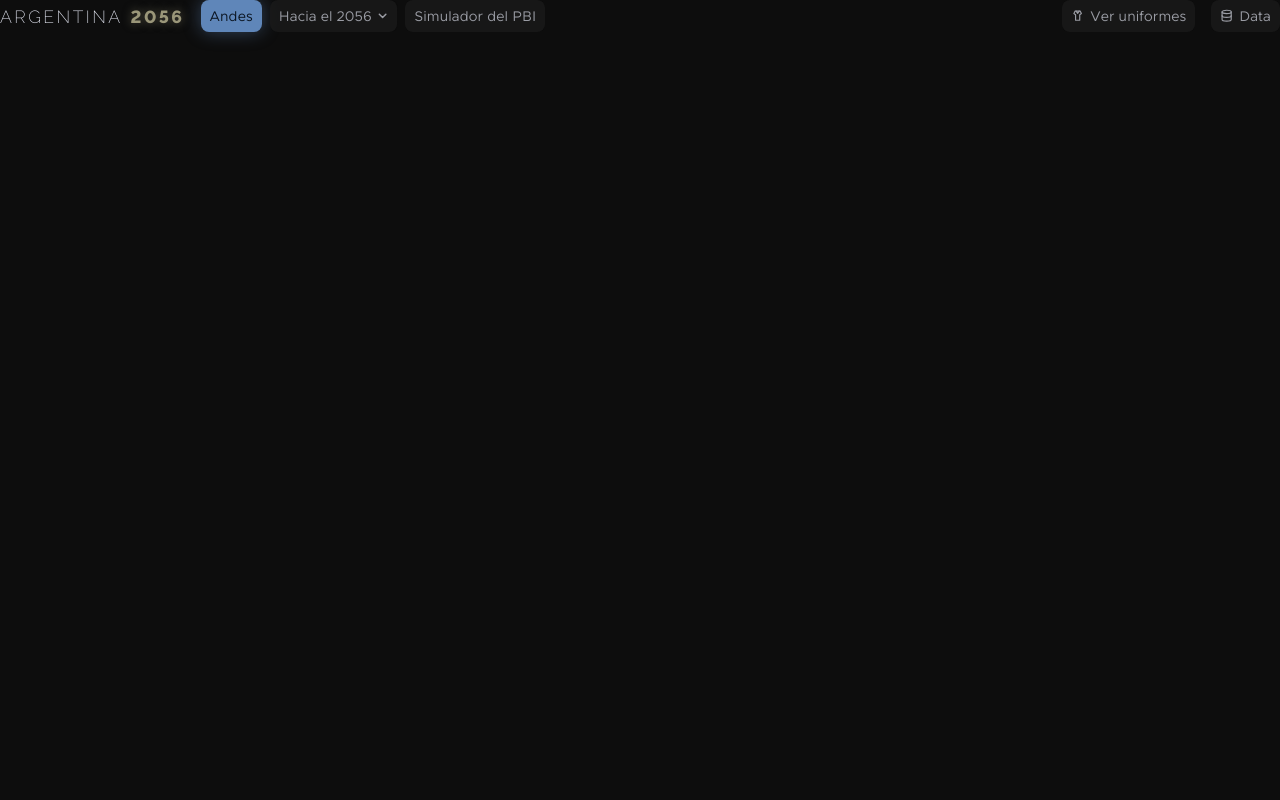
Scenario: Header "Ver uniformes" button and 3D uniforms popup › opens a popup with the 3 3D uniform models, supports zooming out ("Alejar zoom"), and closes on Cerrar
Click the button "Ver uniformes" at (1129, 16), box [1062, 0, 1195, 32]
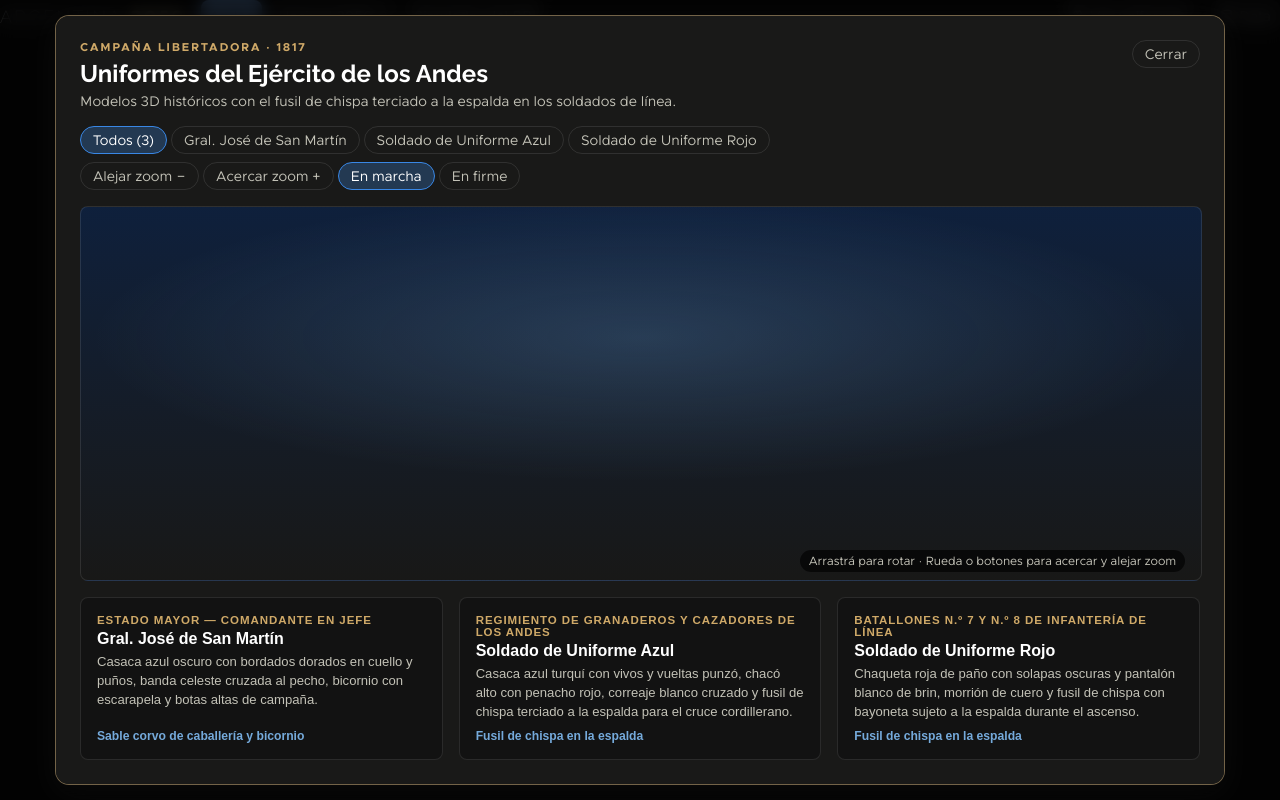
Now the button "Ver uniformes" is expanded, box [1062, 0, 1195, 32]
Click the button "Alejar zoom −" at (140, 176), box [80, 162, 199, 190]
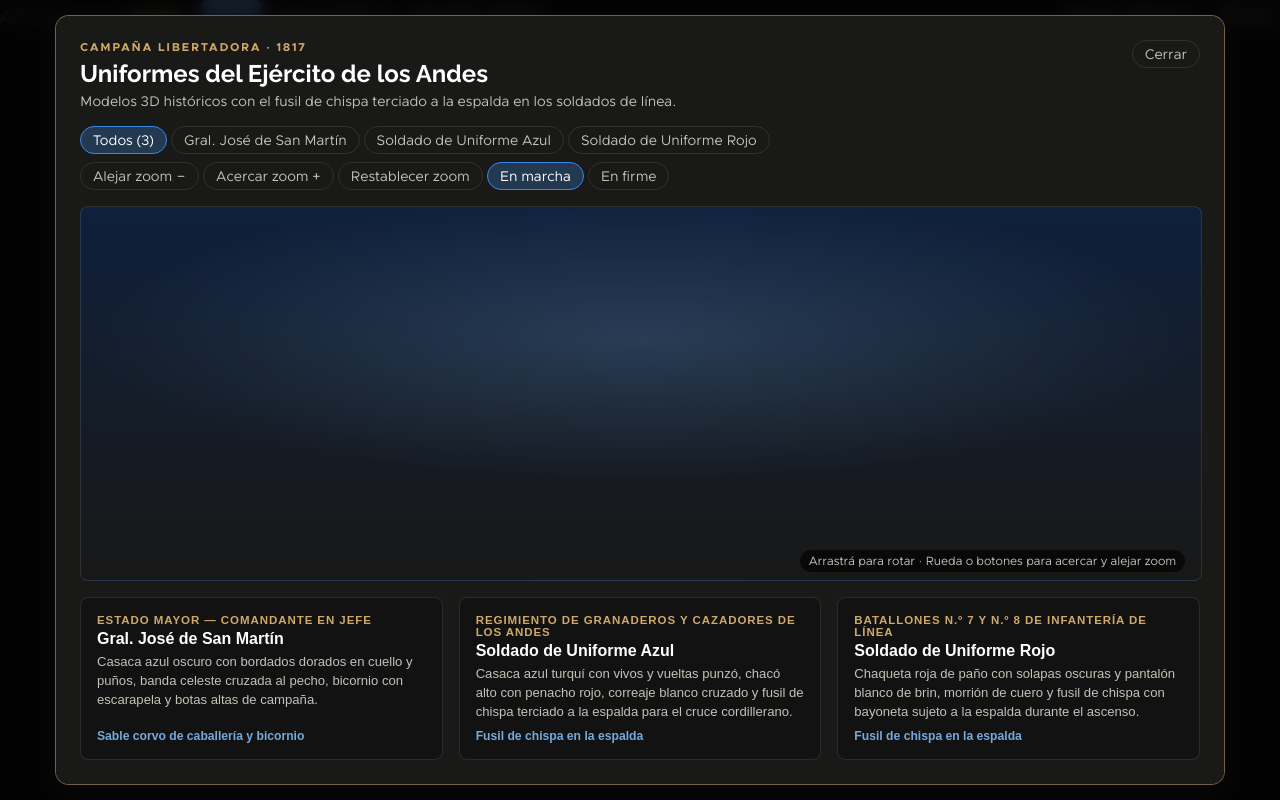
Click the button "Cerrar" at (1166, 54), box [1132, 40, 1200, 68]
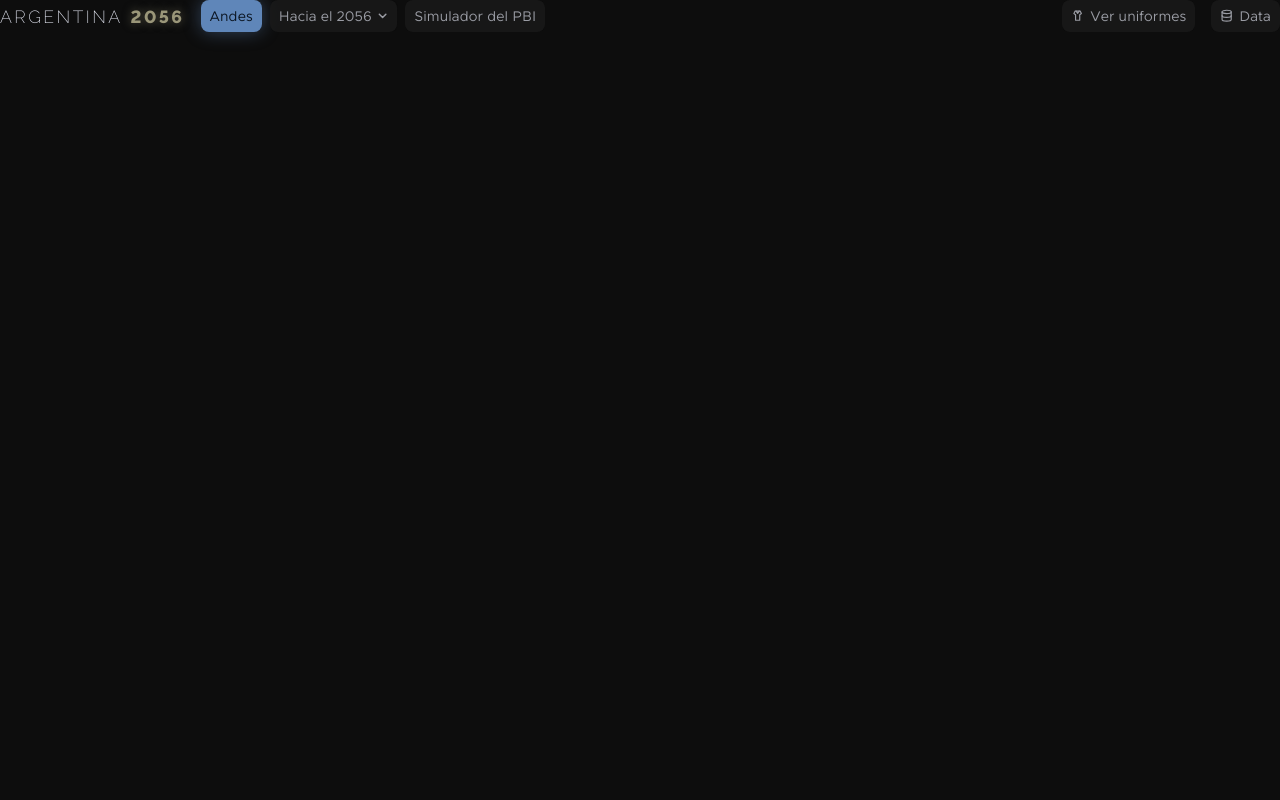
Now the heading "Uniformes del Ejército de los Andes" is gone
